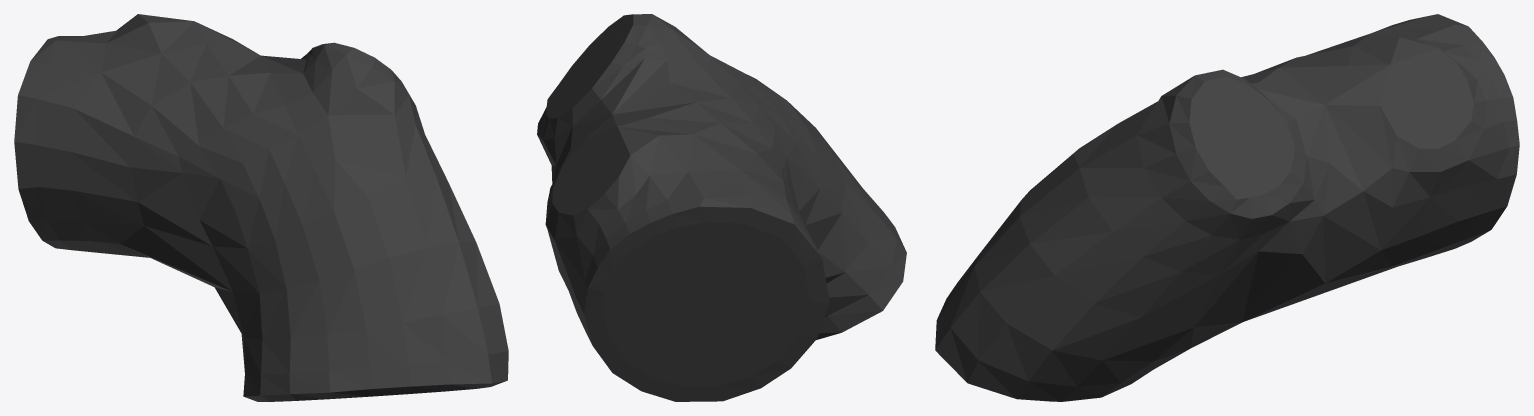
File: L_sided_AORTA_ARCH.glb
3 renders of one model, left to right at view 1: azimuth 30°, elevation 25°; view 2: azimuth 150°, elevation 25°; view 3: azimuth 270°, elevation 25°, orthographic. The views are drawn at different scales.
Parts seen in each view (by area): view 1: L_sided_AORTA_ARCH; view 2: L_sided_AORTA_ARCH; view 3: L_sided_AORTA_ARCH.
Part boxes in pixels (x1,y1,x2,y2): L_sided_AORTA_ARCH: (14, 14, 508, 401); L_sided_AORTA_ARCH: (537, 14, 906, 401); L_sided_AORTA_ARCH: (935, 14, 1519, 401).
Bounding box in the file's own units: 2.52 × 2.28 × 3.72.
1 material, 1 textured.
